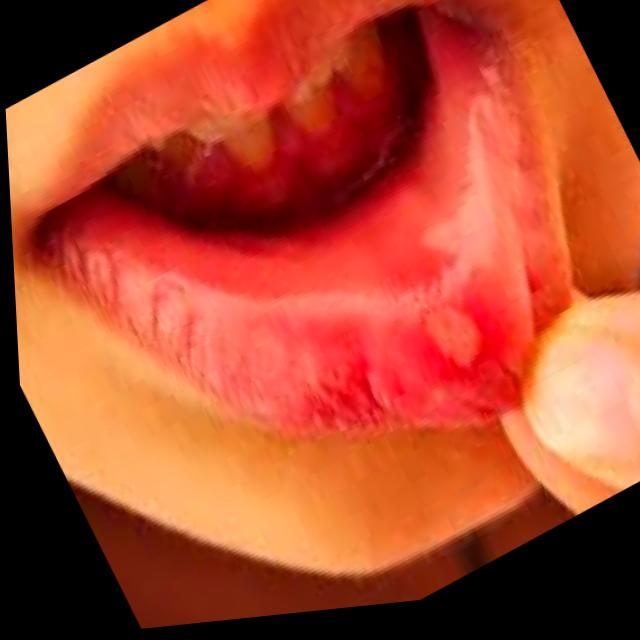ulcer: (401, 276, 504, 385)
